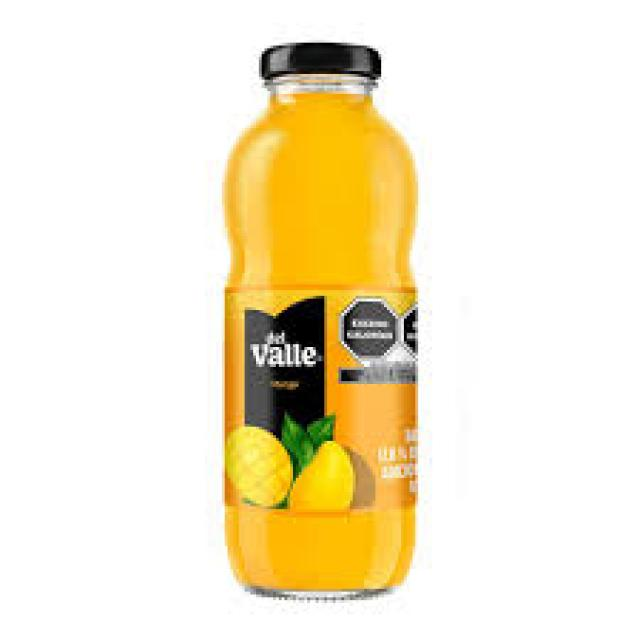Botella: (206, 27, 439, 618)
